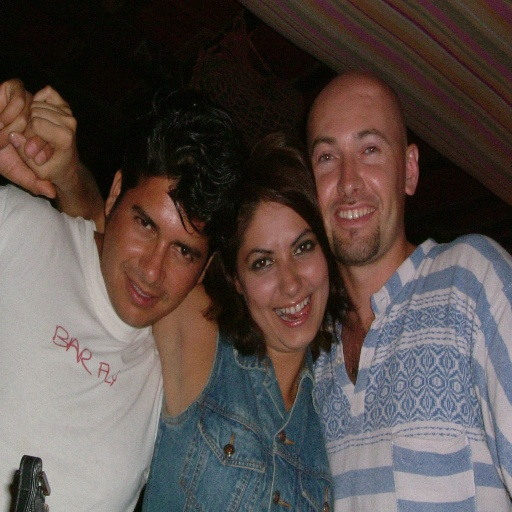hand: (0, 79, 58, 200)
